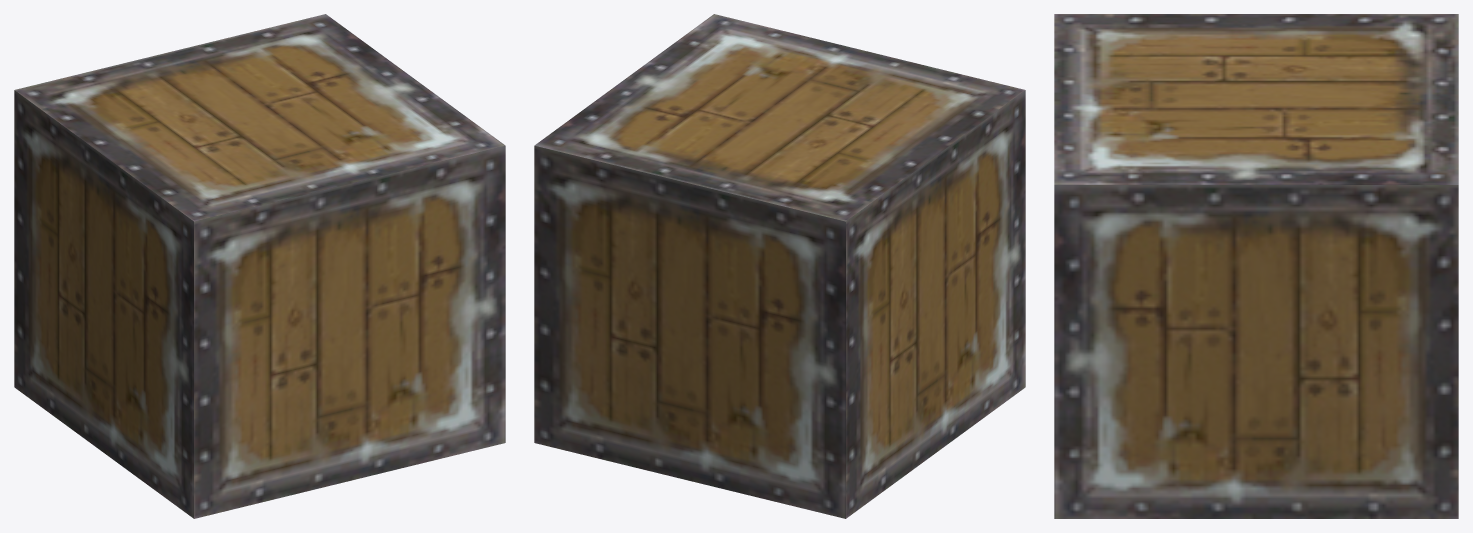
3 views of the same model, side by side, from view 1: azimuth 30°, elevation 25°; view 2: azimuth 150°, elevation 25°; view 3: azimuth 270°, elevation 25° (orthographic). The views are drawn at different scales.
Parts seen in each view (by area): view 1: BX2-9; view 2: BX2-9; view 3: BX2-9.
Part boxes in pixels (left/top/right/bottom): BX2-9: left=14, top=14, right=505, bottom=518; BX2-9: left=534, top=14, right=1025, bottom=518; BX2-9: left=1054, top=14, right=1458, bottom=518.
Size of the model in its own units: 72.81 by 66.38 by 72.81.
1 material, 1 textured.
